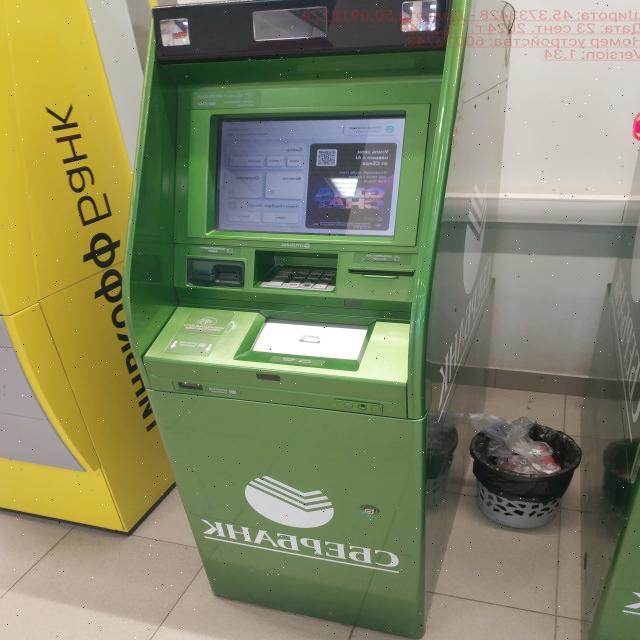bank: (123, 0, 514, 637)
